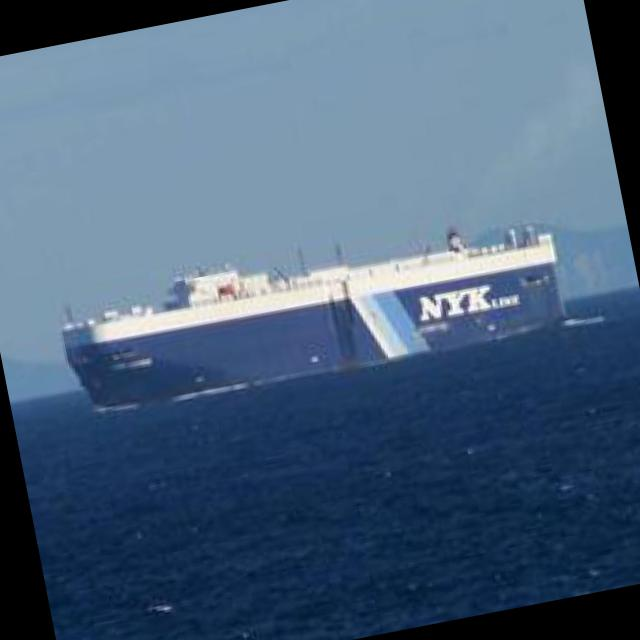boat: (42, 190, 590, 430)
